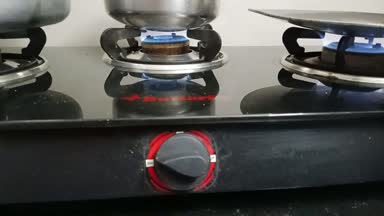flame_gas_on: (132, 27, 217, 187), (308, 31, 384, 82)
